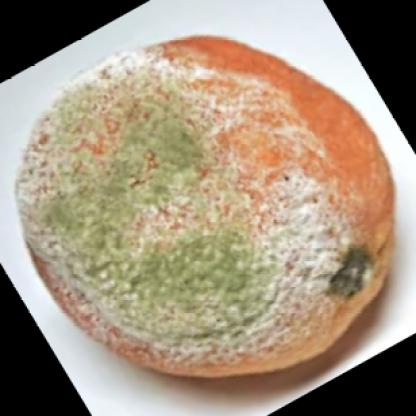rotten: (14, 37, 395, 379)
